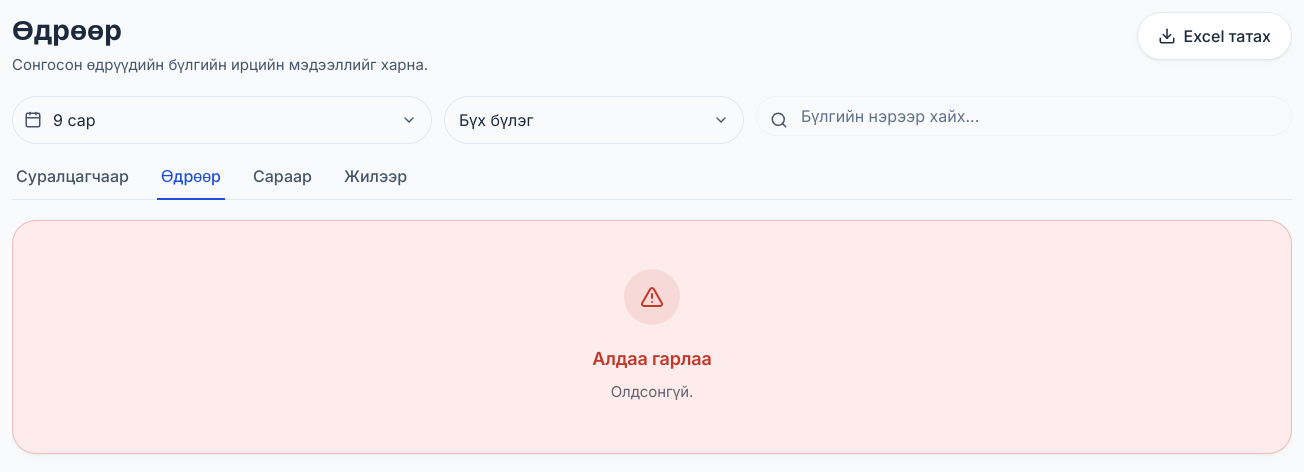
Test: Сараар › asks for a group before it counts anything
Click the tab "Сараар" at point(282, 182), box [249, 164, 316, 200]
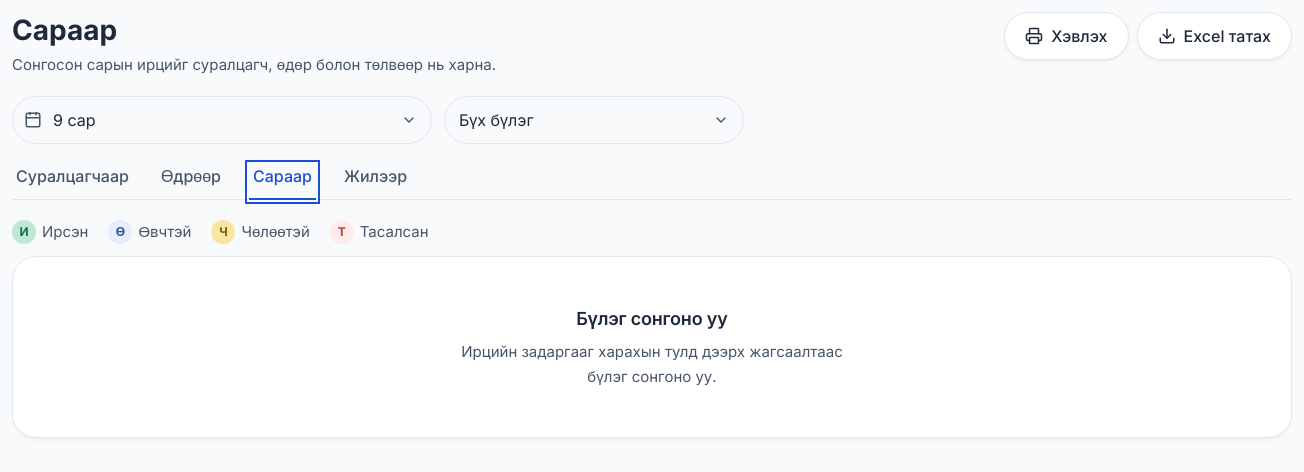
Now the heading "Сараар" is shown, box [12, 13, 117, 47]
Now the text "Бүлэг сонгоно уу" is shown, box [576, 305, 728, 332]
Now the button "Хэвлэх" is shown, box [1004, 12, 1129, 60]
